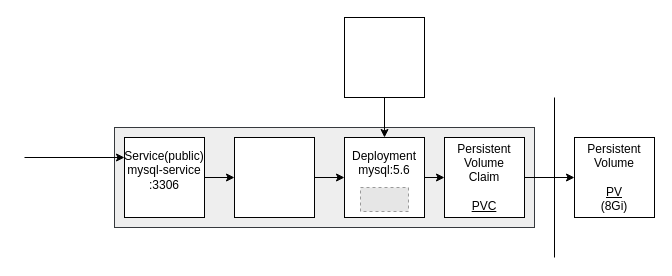
Image size: 672x276. Some labels were removed from this diagram. Grey dashed boxes stand in for pictures. Each missing label, with the centre of its shape:
"Secret mysqldb-secrets ." goes at point 384,57.
"Service (private) ." goes at point 274,177.
